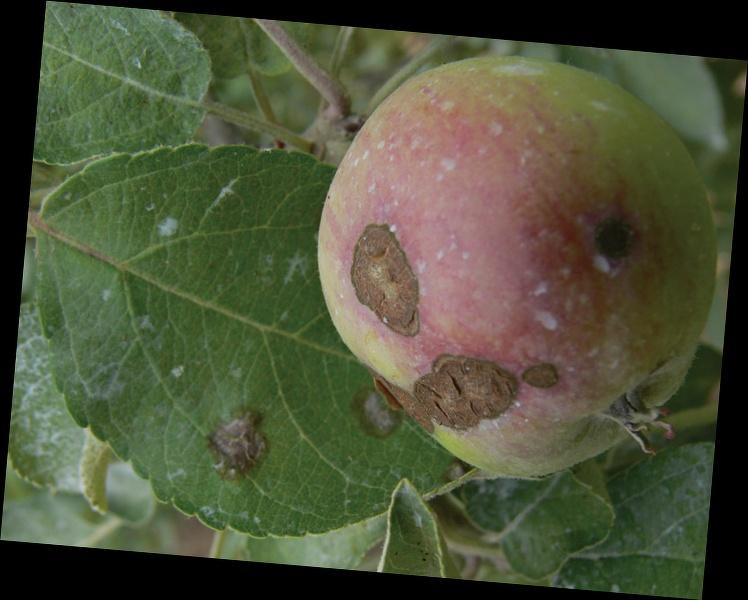rotten apple: (298, 53, 716, 472)
